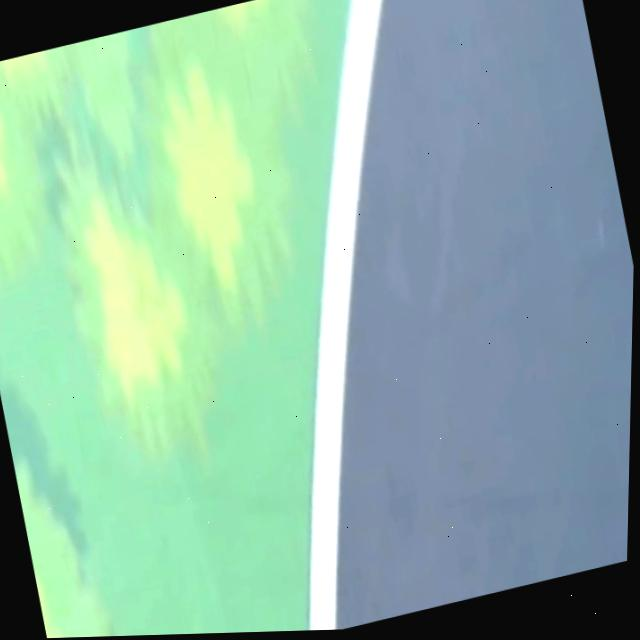right: (311, 0, 382, 630)
